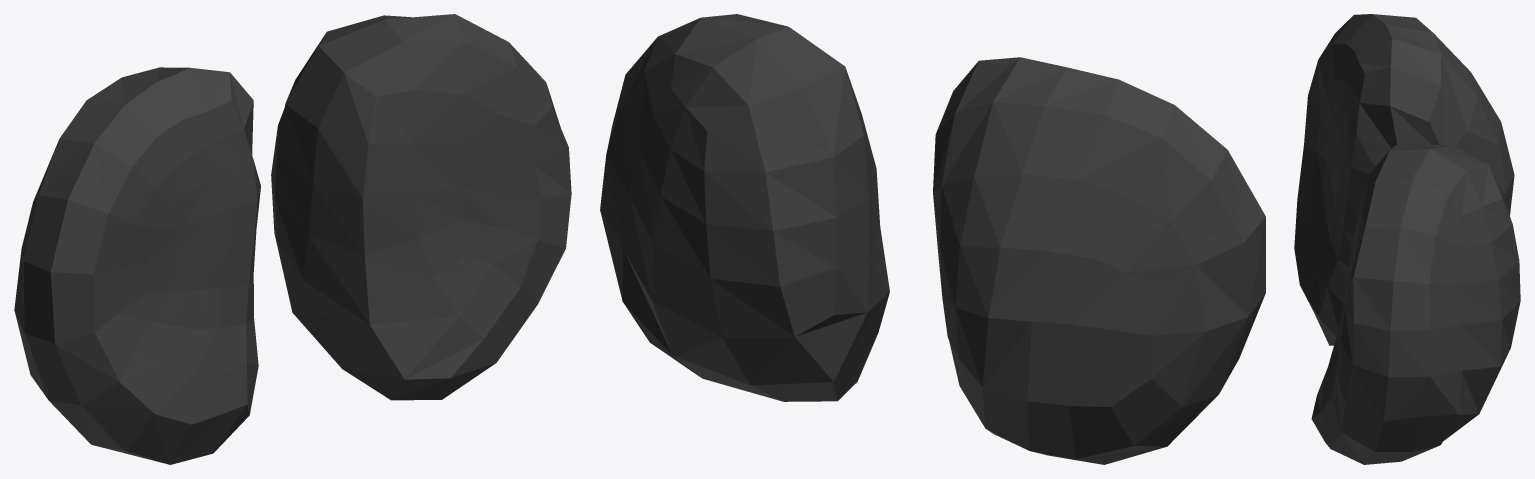
Rendered from FL_Sesamoids_R.glb.
3 renders of one model, left to right at view 1: azimuth 30°, elevation 25°; view 2: azimuth 150°, elevation 25°; view 3: azimuth 270°, elevation 25°, orthographic. The views are drawn at different scales.
Visible parts, largest first — view 1: FL_Sesamoids_R; view 2: FL_Sesamoids_R; view 3: FL_Sesamoids_R.
Boxes of the visible parts, x1,y1,x2,y2 form: FL_Sesamoids_R: (14,14,571,464); FL_Sesamoids_R: (600,14,1265,464); FL_Sesamoids_R: (1294,14,1520,464).
Size of the model in its own units: 0.0624 by 0.0388 by 0.0249.
Materials: 1 (1 with a texture image).
